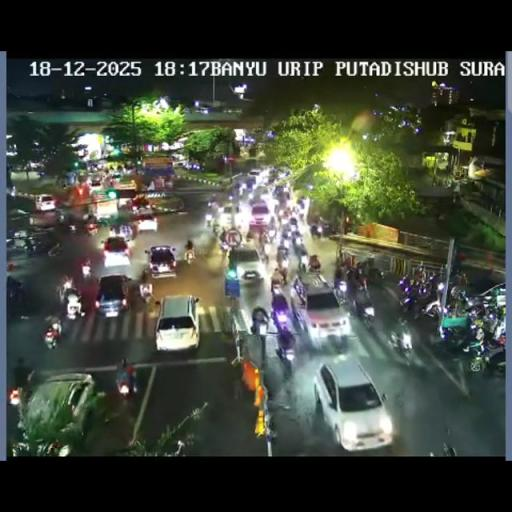Car: (314, 358, 393, 450), (21, 372, 98, 448), (296, 276, 348, 350), (154, 294, 200, 352), (94, 274, 132, 316), (228, 244, 265, 286), (146, 244, 178, 278), (143, 194, 184, 217), (102, 236, 132, 266), (24, 231, 60, 256), (212, 202, 238, 230), (249, 202, 270, 228), (29, 210, 59, 228), (108, 221, 134, 241), (136, 212, 158, 232), (34, 194, 56, 211), (244, 175, 257, 190), (90, 174, 102, 186), (109, 172, 123, 182), (249, 169, 261, 176)
Motorcycle: (398, 270, 440, 316), (463, 327, 504, 374), (437, 314, 474, 354), (9, 360, 35, 410), (270, 291, 296, 337), (388, 324, 414, 363), (350, 283, 374, 324), (274, 336, 296, 374), (114, 370, 138, 400), (128, 284, 150, 314), (251, 306, 269, 341), (427, 438, 458, 456), (463, 299, 488, 321), (6, 276, 24, 306), (64, 290, 83, 318), (449, 284, 472, 307), (161, 438, 189, 456), (6, 238, 27, 262), (36, 440, 64, 457), (43, 323, 59, 350), (364, 266, 385, 286), (333, 272, 347, 301), (281, 222, 297, 244), (276, 247, 289, 274), (10, 440, 30, 457), (294, 237, 308, 260), (353, 260, 366, 284), (60, 274, 74, 294), (270, 270, 284, 288), (226, 290, 238, 311), (453, 270, 467, 288), (81, 258, 92, 280), (258, 246, 270, 266), (258, 229, 271, 247), (219, 238, 230, 258), (183, 246, 195, 264), (96, 214, 111, 228), (308, 254, 321, 270), (206, 194, 220, 208), (86, 221, 98, 236), (54, 209, 66, 224), (346, 266, 355, 284), (211, 222, 221, 238), (310, 223, 320, 239), (204, 210, 214, 226), (142, 266, 151, 282), (67, 222, 78, 234), (282, 206, 291, 220), (237, 182, 246, 196), (245, 229, 254, 242), (7, 185, 16, 197), (268, 217, 276, 230), (299, 261, 307, 273), (228, 194, 234, 202)
